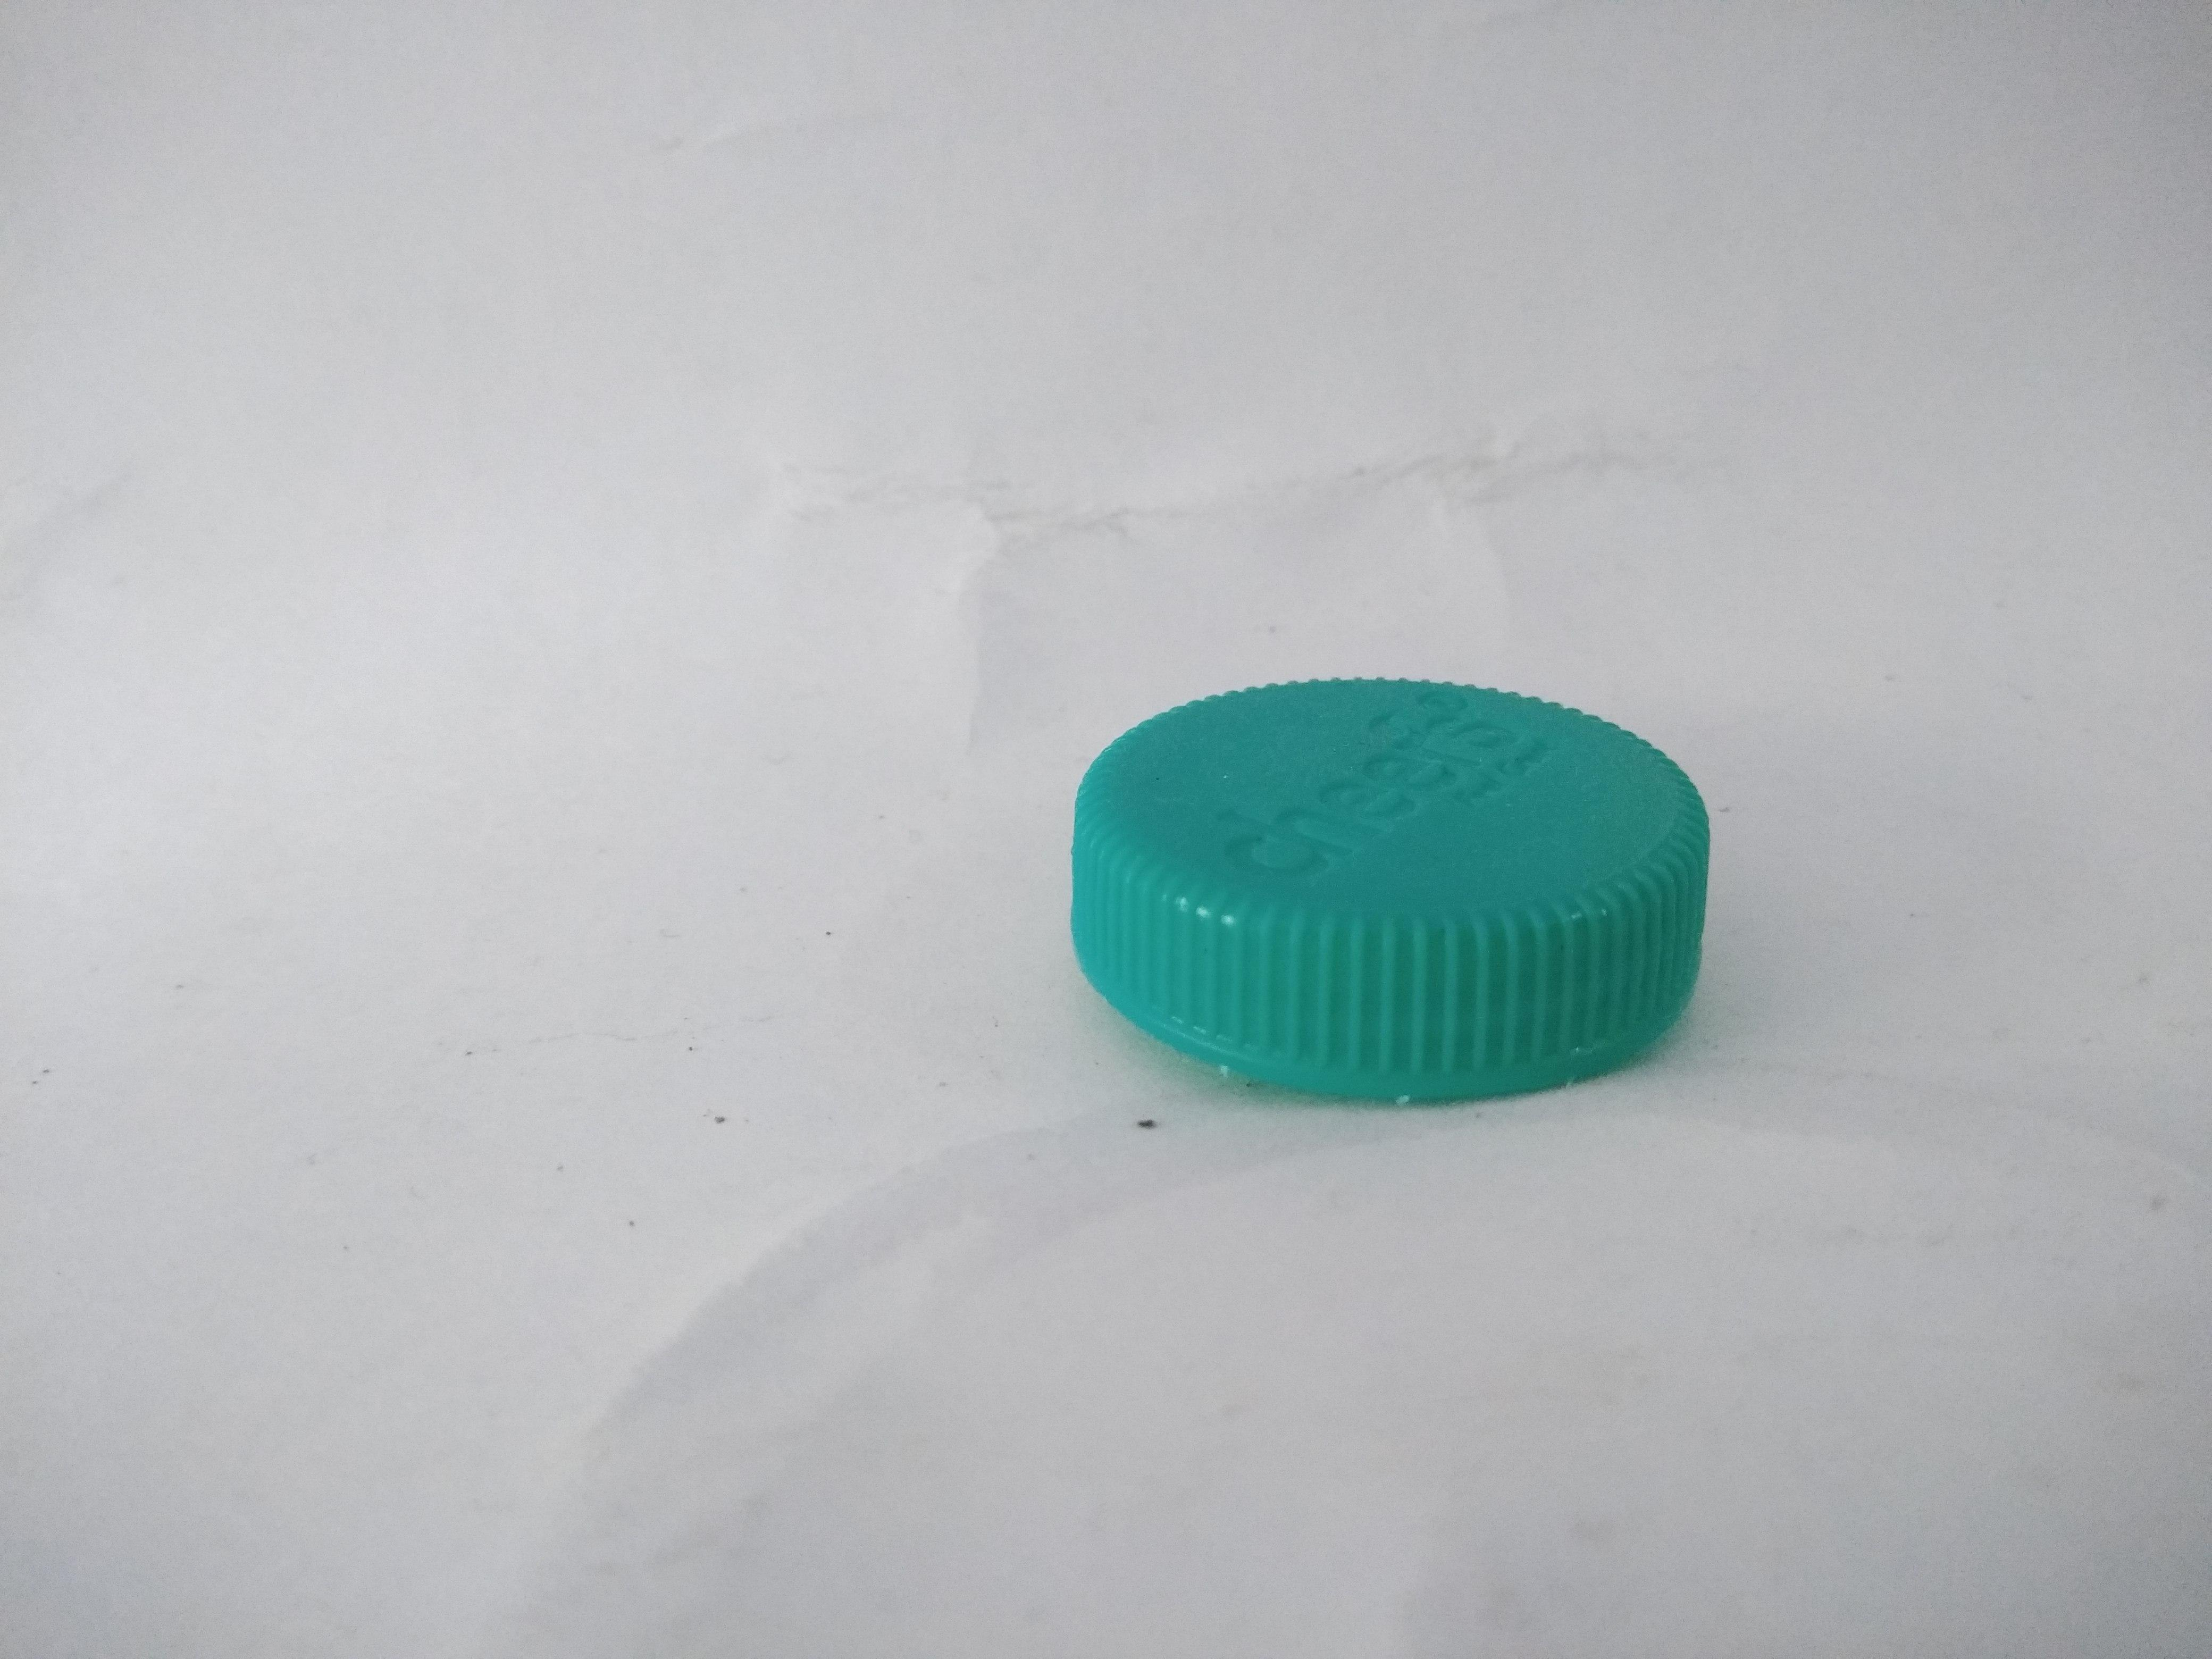HDPE: (942, 528, 1844, 1262)
